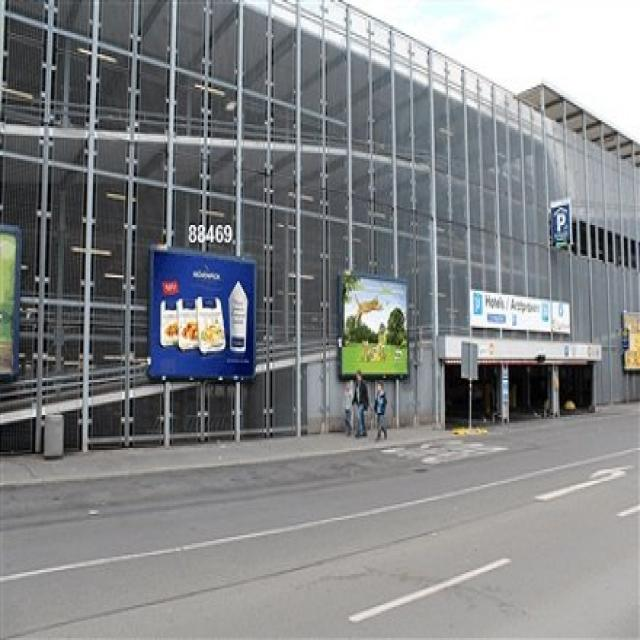Werbetafel frei: (145, 245, 258, 384), (337, 269, 411, 382)
